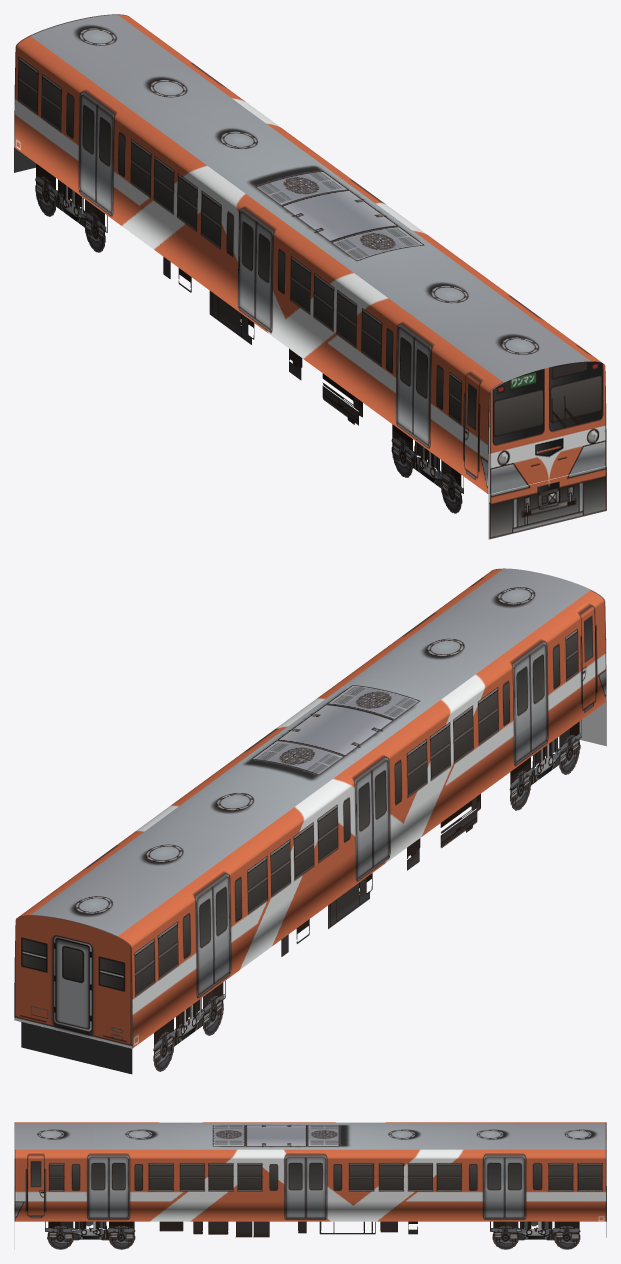
The model's file is car1.glb.
The picture shows the model from 3 angles, top to bottom: view 1: azimuth 30°, elevation 25°; view 2: azimuth 150°, elevation 25°; view 3: azimuth 270°, elevation 25°; orthographic projection. The views are drawn at different scales.
Parts seen in each view (by area): view 1: ryutetsu5000-car1; view 2: ryutetsu5000-car1; view 3: ryutetsu5000-car1.
Part boxes in pixels (x1,y1,x2,y2): ryutetsu5000-car1: (14,14,606,539); ryutetsu5000-car1: (14,568,606,1074); ryutetsu5000-car1: (14,1122,606,1249).
Bounding box in the file's own units: 2.88 × 3.66 × 20.07.
Materials: 9 (8 with a texture image).
